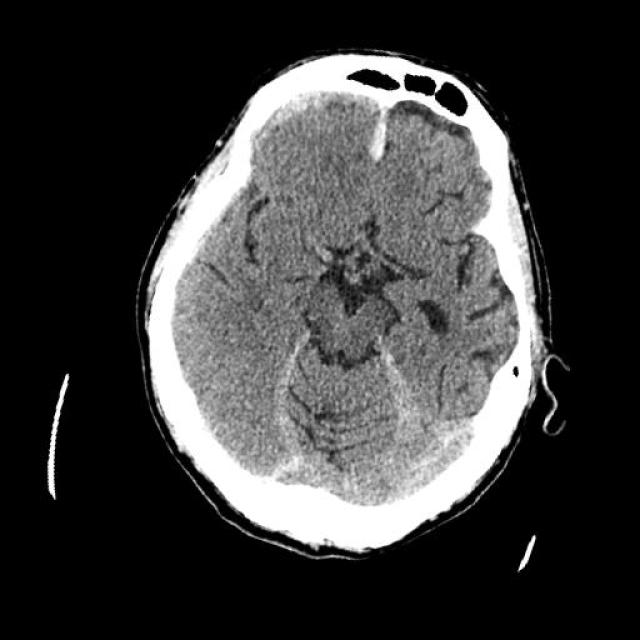Subarachnoid: (214, 282, 355, 502), (322, 322, 488, 508)
Subdural: (234, 55, 381, 189), (343, 90, 422, 194)
